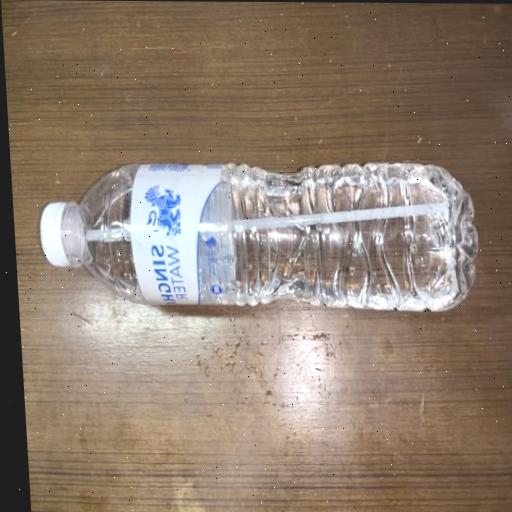bottle: (26, 151, 490, 328)
